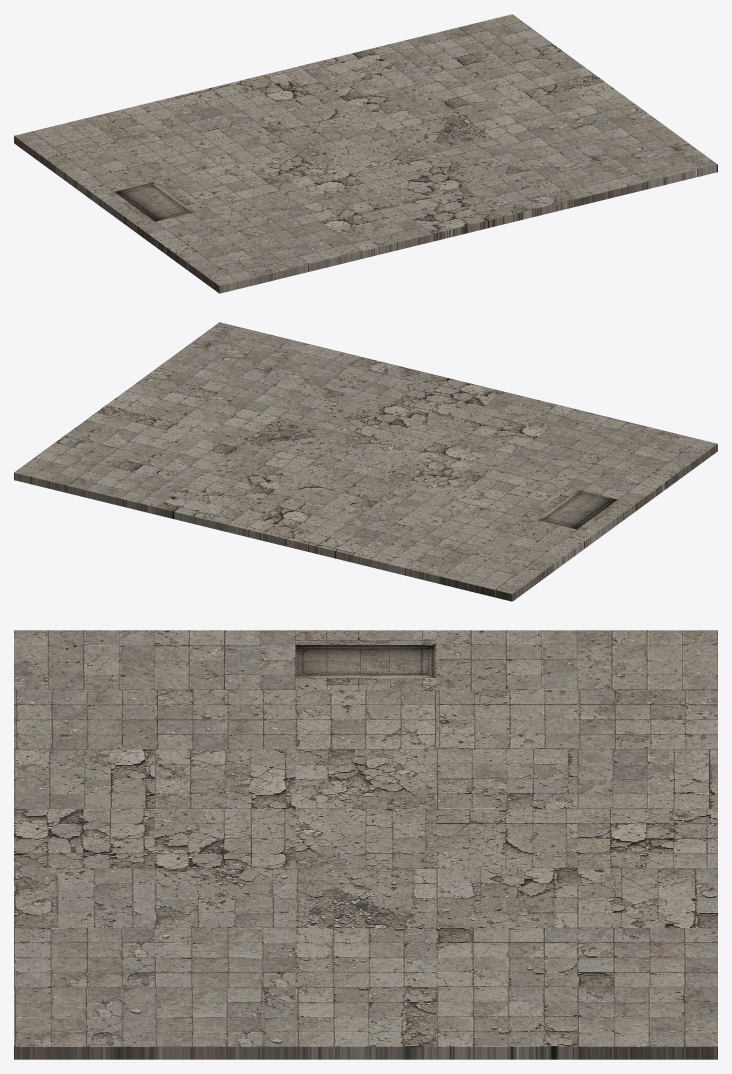
Rendered from export_floor_a.glb.
3 views of the same model, one above another, from view 1: azimuth 30°, elevation 25°; view 2: azimuth 150°, elevation 25°; view 3: azimuth 270°, elevation 25° (orthographic). The views are drawn at different scales.
Visible parts, largest first — view 1: floor_A_05, floor_A_15, floor_A_35, floor_A_20, floor_A_30, floor_A_10, floor_A_25, floor_A_03, floor_A_02, floor_A_04, floor_A_01, floor_A_14 (+23 smaller); view 2: floor_A_01, floor_A_11, floor_A_31, floor_A_16, floor_A_26, floor_A_06, floor_A_21, floor_A_03, floor_A_04, floor_A_02, floor_A_05, floor_A_12 (+23 smaller); view 3: floor_A_32, floor_A_33, floor_A_34, floor_A_31, floor_A_35, floor_A_02, floor_A_03, floor_A_04, floor_A_12, floor_A_13, floor_A_14, floor_A_22 (+23 smaller).
Part boxes in pixels (box(x1,y1,x2,y2)): floor_A_05: box(178, 239, 290, 293); floor_A_15: box(321, 204, 433, 258); floor_A_35: box(606, 134, 717, 189); floor_A_20: box(392, 187, 504, 241); floor_A_30: box(535, 152, 646, 206); floor_A_10: box(250, 221, 361, 276); floor_A_25: box(463, 169, 575, 223); floor_A_03: box(96, 178, 208, 232); floor_A_02: box(55, 148, 166, 202); floor_A_04: box(137, 209, 249, 262); floor_A_01: box(14, 118, 125, 172); floor_A_14: box(280, 174, 391, 221); floor_A_01: box(441, 547, 553, 601); floor_A_11: box(298, 512, 410, 566); floor_A_31: box(14, 442, 125, 497); floor_A_16: box(227, 495, 339, 549); floor_A_26: box(85, 460, 196, 514); floor_A_06: box(370, 529, 481, 584); floor_A_21: box(156, 477, 268, 531); floor_A_03: box(523, 486, 635, 540); floor_A_04: box(565, 456, 676, 510); floor_A_02: box(482, 517, 594, 570); floor_A_05: box(606, 426, 717, 480); floor_A_12: box(340, 482, 451, 529); floor_A_32: box(436, 987, 577, 1059); floor_A_33: box(295, 987, 436, 1059); floor_A_34: box(154, 987, 295, 1059); floor_A_31: box(577, 987, 717, 1059); floor_A_35: box(14, 987, 154, 1059); floor_A_02: box(436, 630, 577, 689); floor_A_03: box(295, 630, 436, 689); floor_A_04: box(154, 630, 295, 689); floor_A_12: box(436, 749, 577, 808); floor_A_13: box(295, 749, 436, 808); floor_A_14: box(154, 749, 295, 808); floor_A_22: box(436, 868, 577, 927).
Size of the model in its own units: 14 by 0.2 by 10.
Materials: 1 (1 with a texture image).
